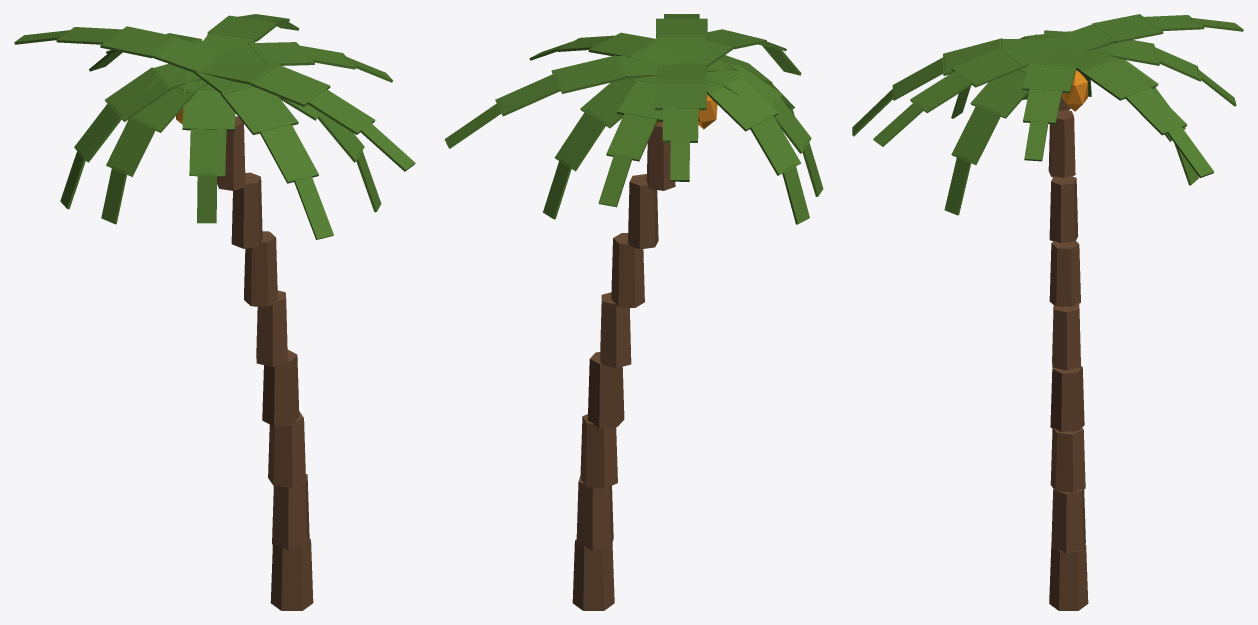
The model's file is palm_c.glb.
3 views of the same model, side by side, from view 1: azimuth 30°, elevation 25°; view 2: azimuth 150°, elevation 25°; view 3: azimuth 270°, elevation 25° (orthographic). The views are drawn at different scales.
Visible parts, largest first — view 1: Palm; view 2: Palm; view 3: Palm.
Boxes of the visible parts, left/top/right/bottom form: Palm: left=14, top=14, right=415, bottom=610; Palm: left=444, top=14, right=823, bottom=610; Palm: left=852, top=14, right=1243, bottom=610.
Bounding box in the file's own units: 5.28 × 9.52 × 6.46.
